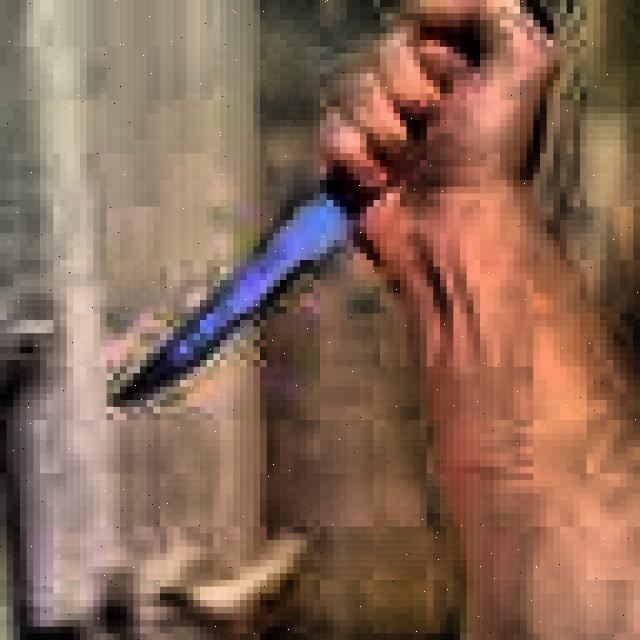knife: (117, 6, 553, 402)
